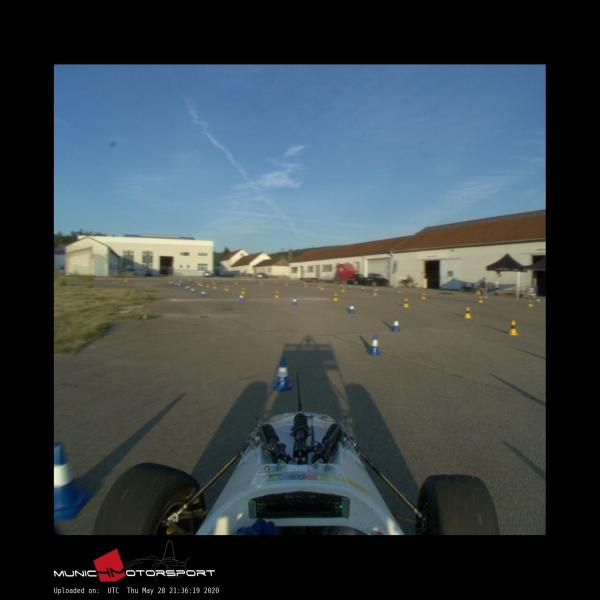blue_cone: (54, 441, 92, 520), (270, 357, 294, 392), (366, 333, 381, 355), (392, 317, 400, 332), (349, 303, 355, 314), (292, 297, 298, 305)
yellow_cone: (506, 320, 518, 336), (463, 306, 472, 319), (403, 298, 409, 308), (332, 293, 338, 301)
